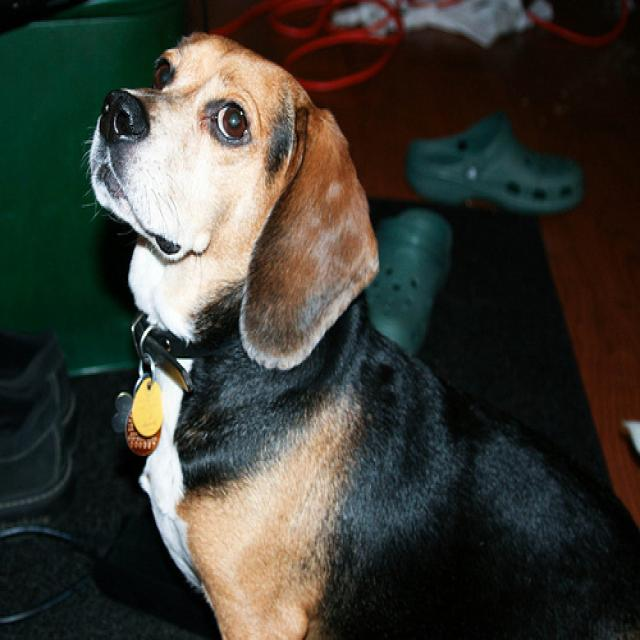dog-beagle: (73, 19, 637, 637)
